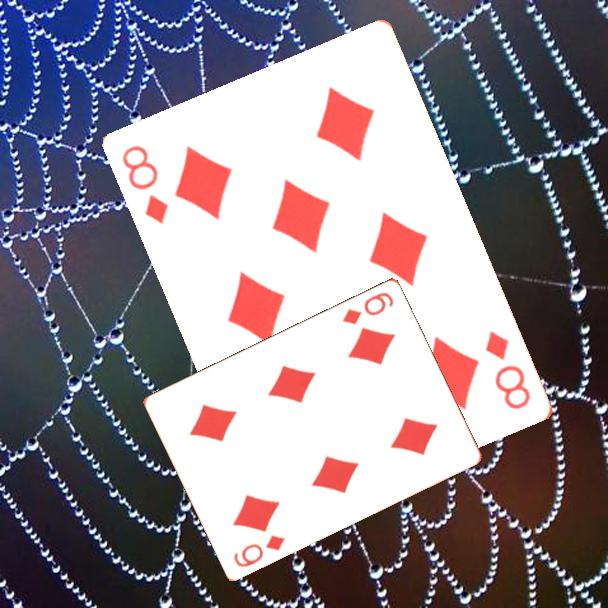d06: (339, 288, 397, 327), (230, 531, 288, 570)
d08: (119, 141, 172, 228), (482, 327, 534, 413)
